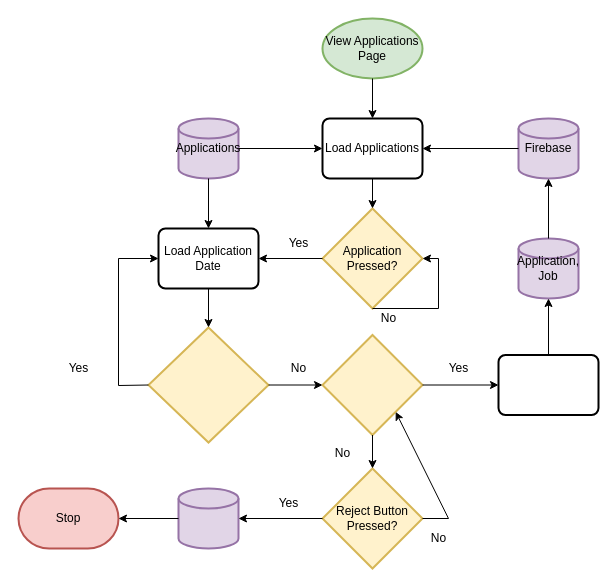
This 616x586 diagram has some shape labels left out. The centre of each missing label's shape, as x and y in pixels:
Accept Button Pressed?: (x=372, y=385)
Application: (x=208, y=518)
Has Application Been Accepted Already?: (x=208, y=384)
Process Accept: (x=548, y=385)
